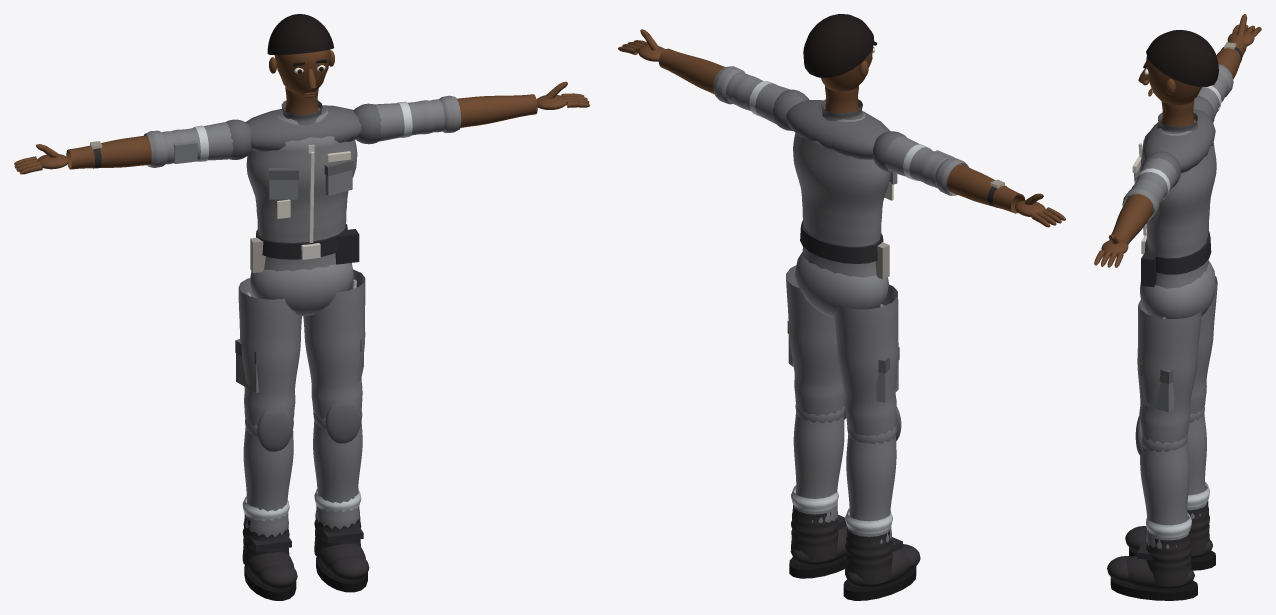
Rendered from C03_colonist_indoor_grey.glb.
3 renders of one model, left to right at view 1: azimuth 30°, elevation 25°; view 2: azimuth 150°, elevation 25°; view 3: azimuth 270°, elevation 25°, orthographic. The views are drawn at different scales.
Visible parts, largest first — view 1: thigh, boot_strap, knee_patch, boot_shaft, boot_sole, ankle_stripe, pocket_snap; view 2: thigh, boot_strap, boot_shaft, knee_patch, boot_sole, ankle_stripe; view 3: thigh, boot_strap, boot_shaft, knee_patch, boot_sole, ankle_stripe.
Boxes of the visible parts, <box> form: thigh: <box>144,95,461,537</box>; boot_strap: <box>14,14,589,551</box>; knee_patch: <box>225,100,381,451</box>; boot_shaft: <box>242,506,369,589</box>; boot_sole: <box>244,151,367,600</box>; ankle_stripe: <box>193,101,412,520</box>; pocket_snap: <box>301,144,320,259</box>; thigh: <box>713,66,969,543</box>; boot_strap: <box>618,14,1065,552</box>; boot_shaft: <box>790,505,920,587</box>; knee_patch: <box>773,89,906,440</box>; boot_sole: <box>789,182,916,600</box>; ankle_stripe: <box>749,81,931,533</box>; thigh: <box>1122,64,1233,548</box>; boot_strap: <box>1094,14,1261,560</box>; boot_shaft: <box>1107,501,1212,589</box>; knee_patch: <box>1134,96,1215,455</box>; boot_sole: <box>1110,156,1215,600</box>; ankle_stripe: <box>1135,85,1221,537</box>.
Size of the model in its own units: 1.71 by 1.8 by 0.5019.
